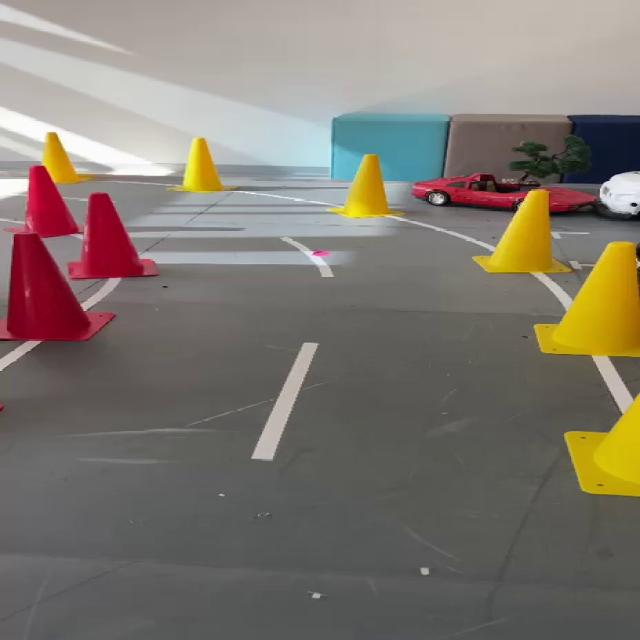Cone-red: (0, 166, 113, 340), (68, 192, 156, 279)
Cones-yellow: (534, 242, 639, 357), (473, 189, 572, 273), (566, 395, 639, 496), (330, 155, 393, 218), (174, 138, 225, 192), (43, 132, 92, 183)
